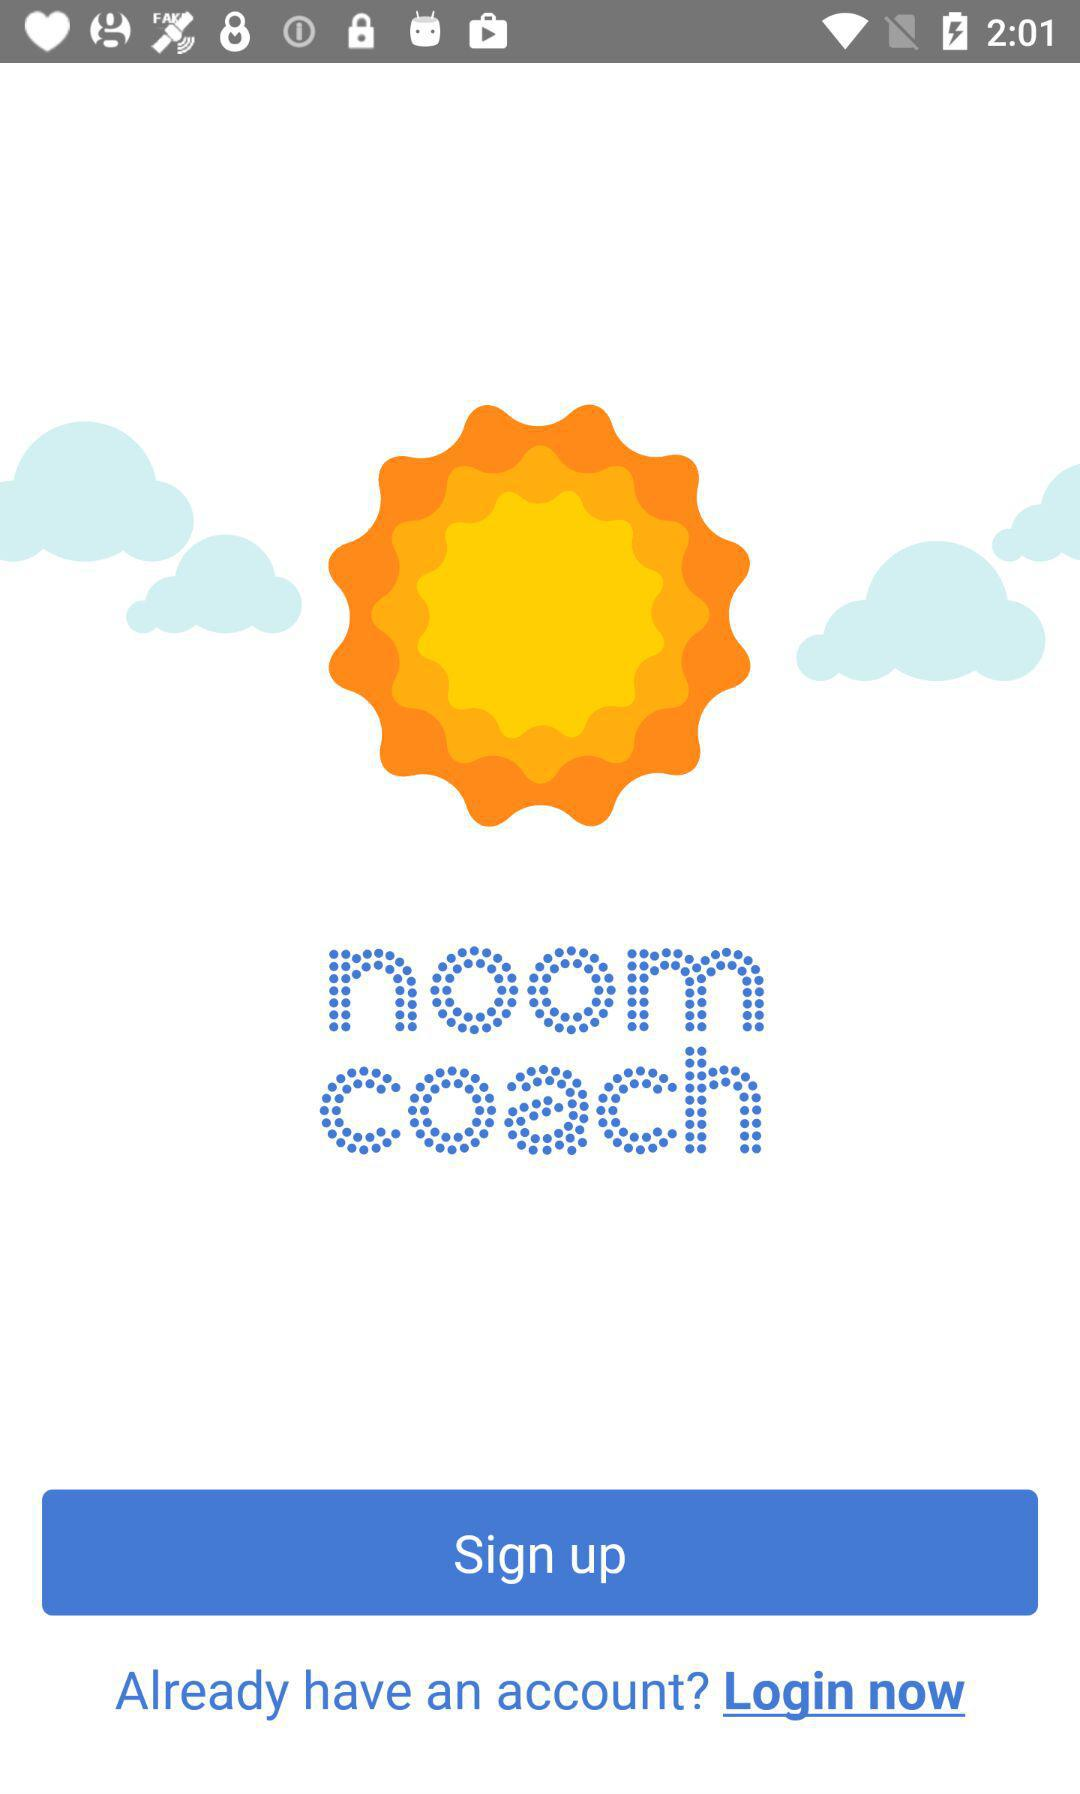Image: (1, 402, 1080, 830), (318, 943, 767, 1160)
Text: (115, 1668, 966, 1722)
TextButton: (42, 1489, 1039, 1617)
UpperTaskBar: (1, 1, 1080, 64)
